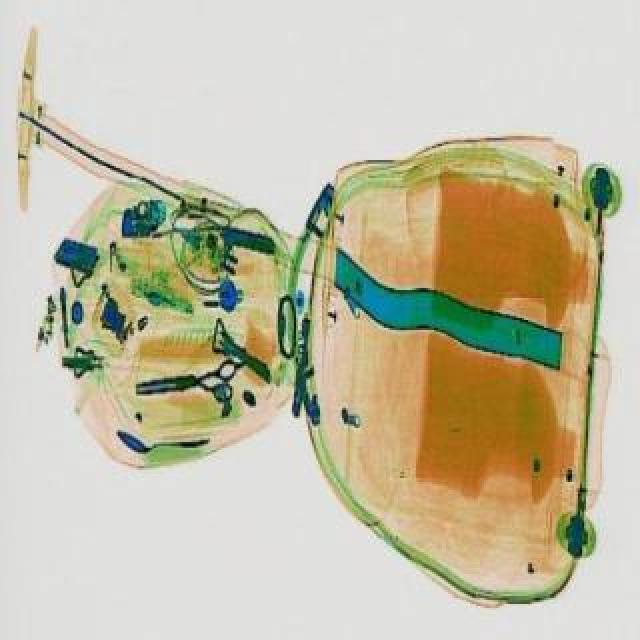pliers: (132, 354, 240, 410)
